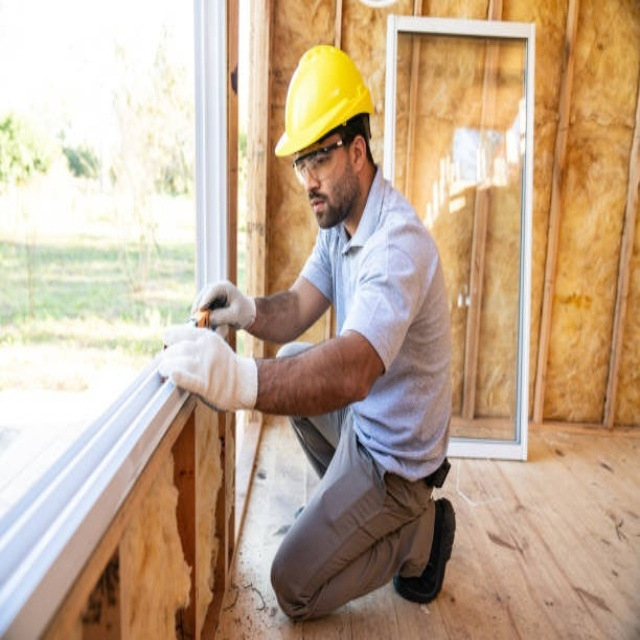Gafas: (293, 136, 350, 185)
Guantes: (159, 326, 260, 413), (194, 279, 257, 333)
Sin_mascara: (307, 195, 333, 232)
